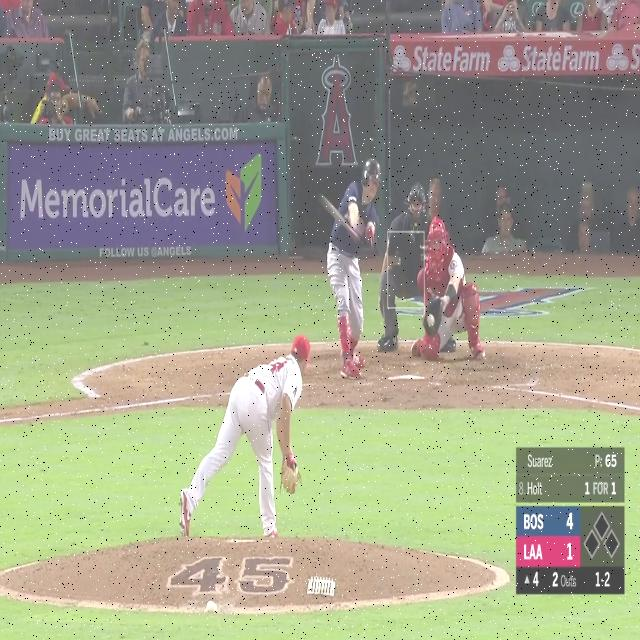baseball: (427, 314, 435, 327)
